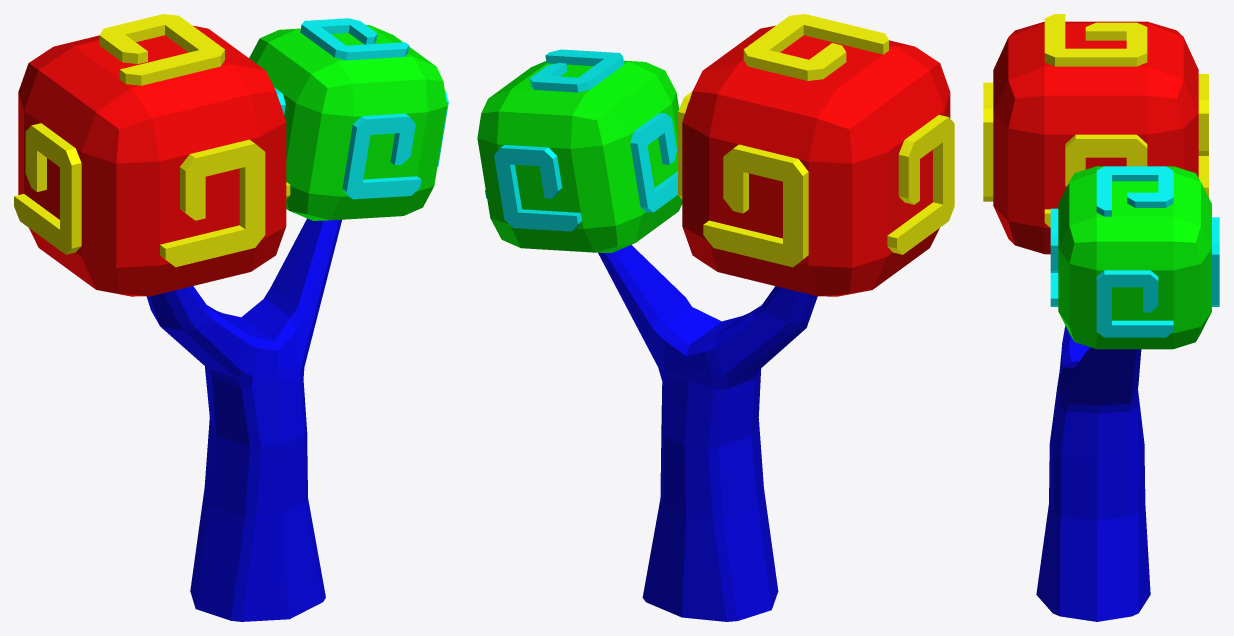
File: Abbie - Tree1.fbx
3 renders of one model, left to right at view 1: azimuth 30°, elevation 25°; view 2: azimuth 150°, elevation 25°; view 3: azimuth 270°, elevation 25°, orthographic. The views are drawn at different scales.
Parts seen in each view (by area): view 1: tree1; view 2: tree1; view 3: tree1.
Boxes of the visible parts, x1,y1,x2,y2 form: tree1: (14,14,448,621); tree1: (477,14,954,621); tree1: (983,14,1219,621).
Size of the model in its own units: 10.24 by 13.82 by 5.77.
